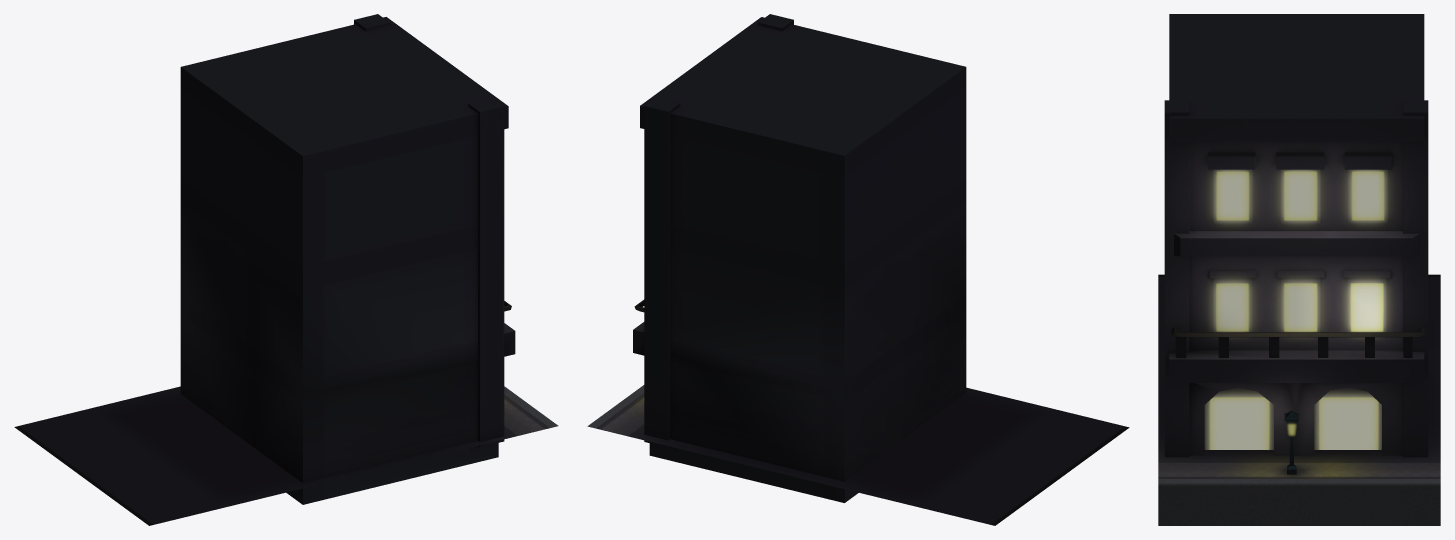
3 renders of one model, left to right at view 1: azimuth 30°, elevation 25°; view 2: azimuth 150°, elevation 25°; view 3: azimuth 270°, elevation 25°, orthographic. The views are drawn at different scales.
Visible parts, largest first — view 1: modelB001; view 2: modelB001; view 3: modelB001.
Part boxes in pixels (bbox=[...]): modelB001: bbox=[14, 14, 558, 525]; modelB001: bbox=[587, 14, 1129, 525]; modelB001: bbox=[1158, 14, 1440, 525].
Bounding box in the file's own units: 7 × 6.05 × 4.
1 material, 1 textured.
